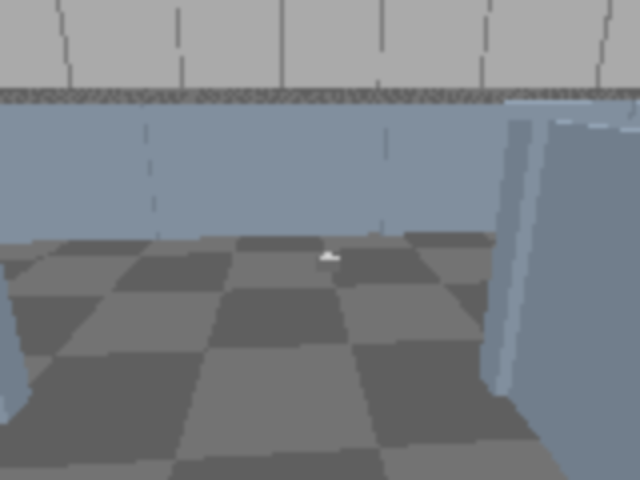puck: (320, 254, 337, 273)
